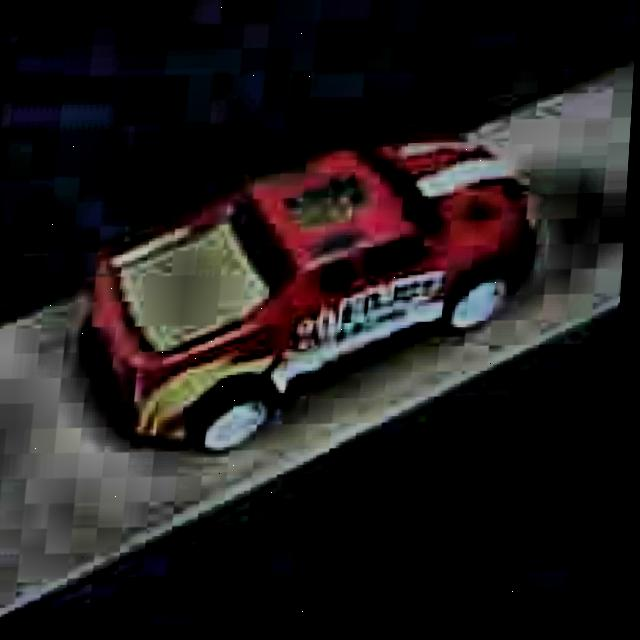car: (63, 107, 548, 476)
